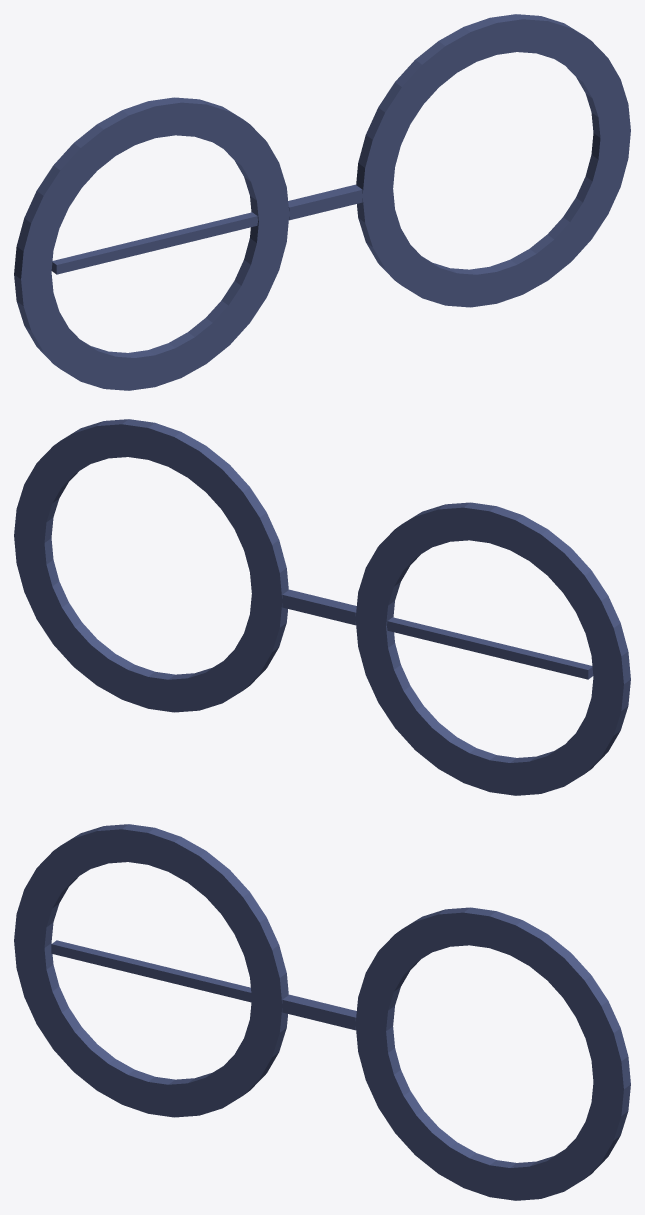
The model's file is brume-bleu-nuit.glb.
3 renders of one model, top to bottom at view 1: azimuth 30°, elevation 25°; view 2: azimuth 150°, elevation 25°; view 3: azimuth 330°, elevation 25°, orthographic.
Visible parts, largest first — view 1: geometry_0; view 2: geometry_0; view 3: geometry_0.
Part boxes in pixels (x1,y1,x2,y2): geometry_0: (14,14,630,390); geometry_0: (14,419,630,795); geometry_0: (14,824,630,1200).
Bounding box in the file's own units: 1 × 0.44 × 0.02.
